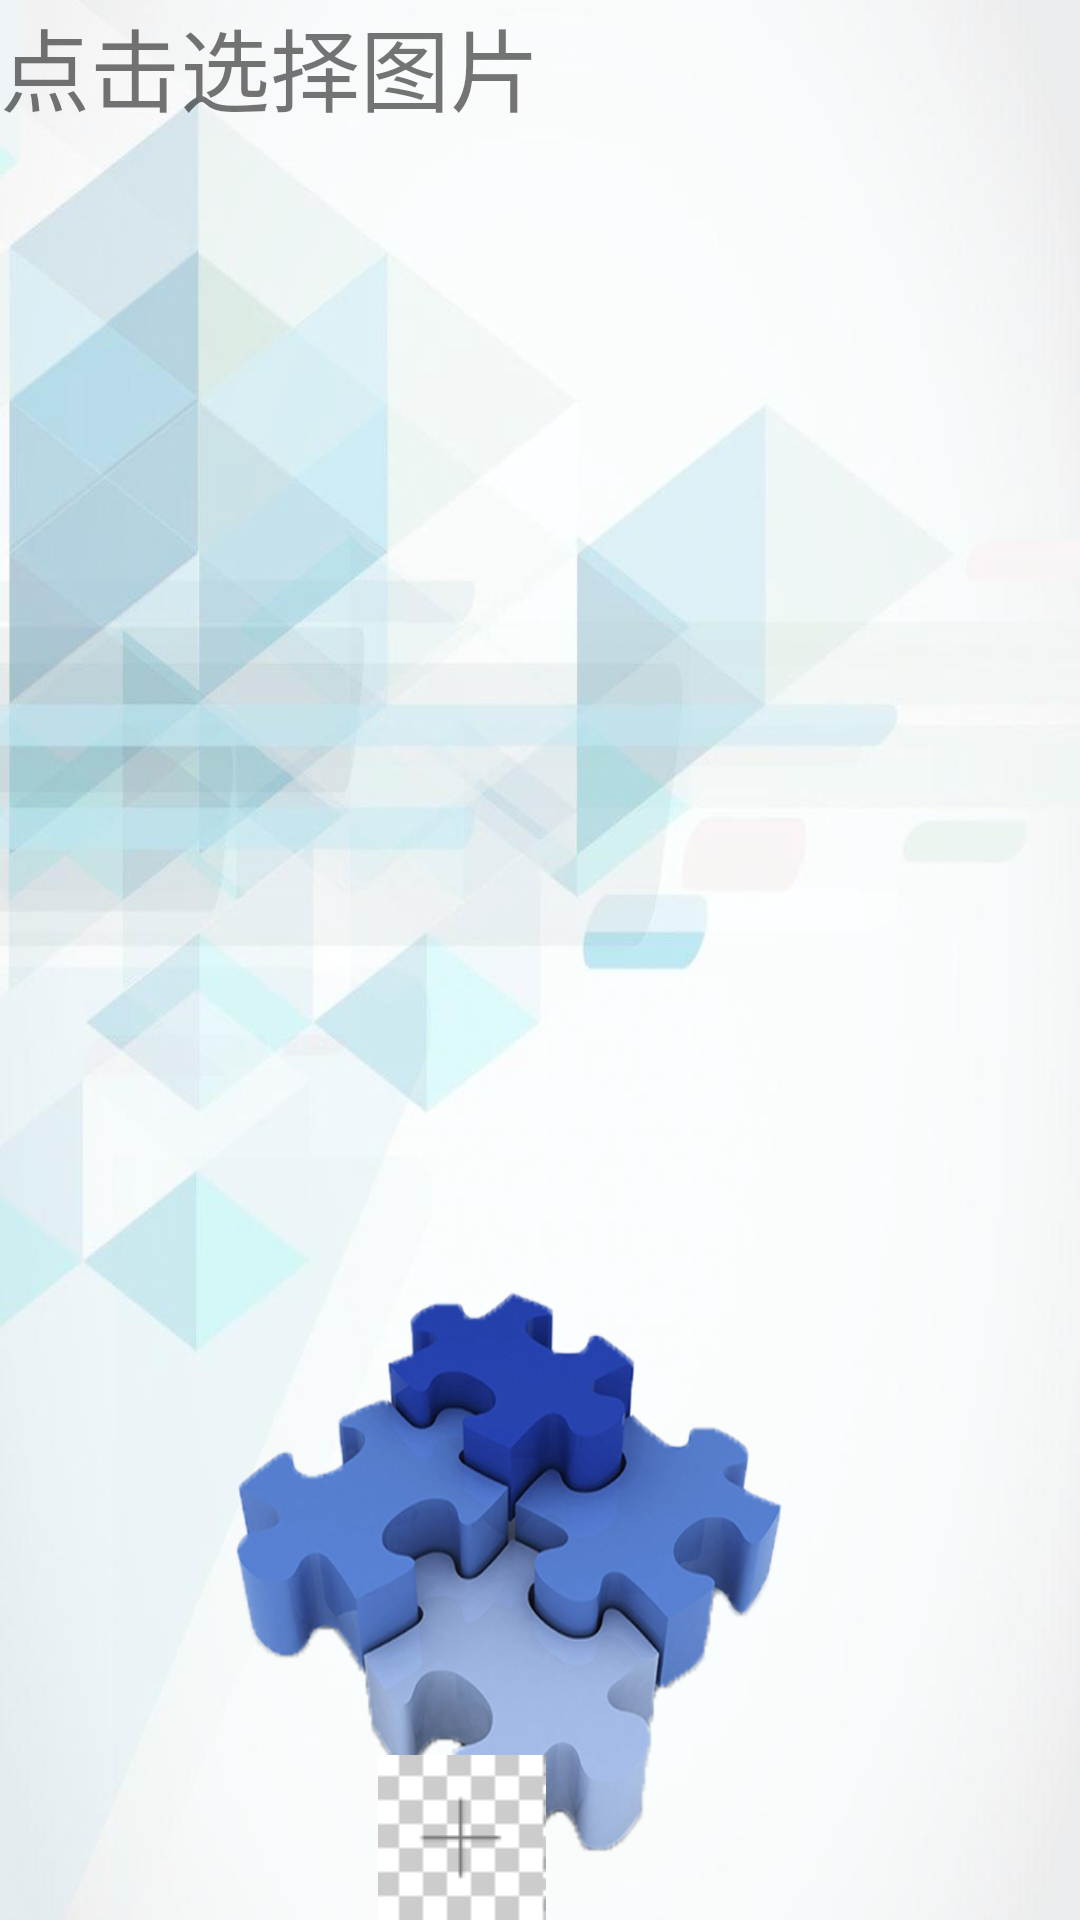

Screen size 1080x1920. Icon name, then its box in pixels as (x1, y1, x2, y2):
pic add: (378, 1755, 546, 1920)
